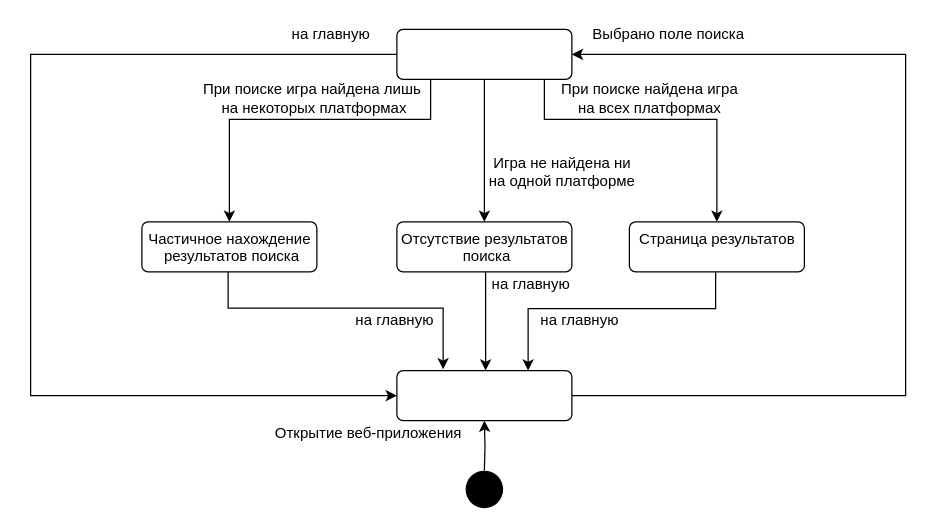
Some shapes in this 938 by 529 pixel diagram are drawn without their labels. Here are the shapes that lost their labels. From the top down, the box of each, then its label:
(396, 28, 572, 79): Поисковая строка
(396, 369, 572, 421): Главная страница
